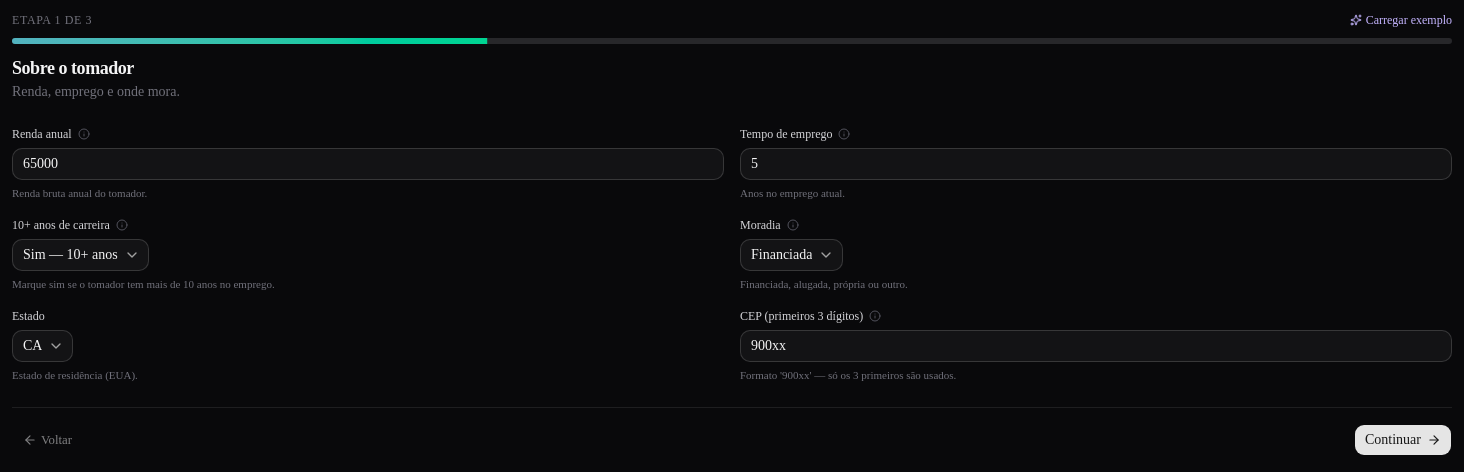
Test: LoanWizard › 'Carregar exemplo' jumps to step 3 (Perfil de crédito)
Click the button "Carregar exemplo".
click(1401, 20)  # box [1350,12,1452,28]
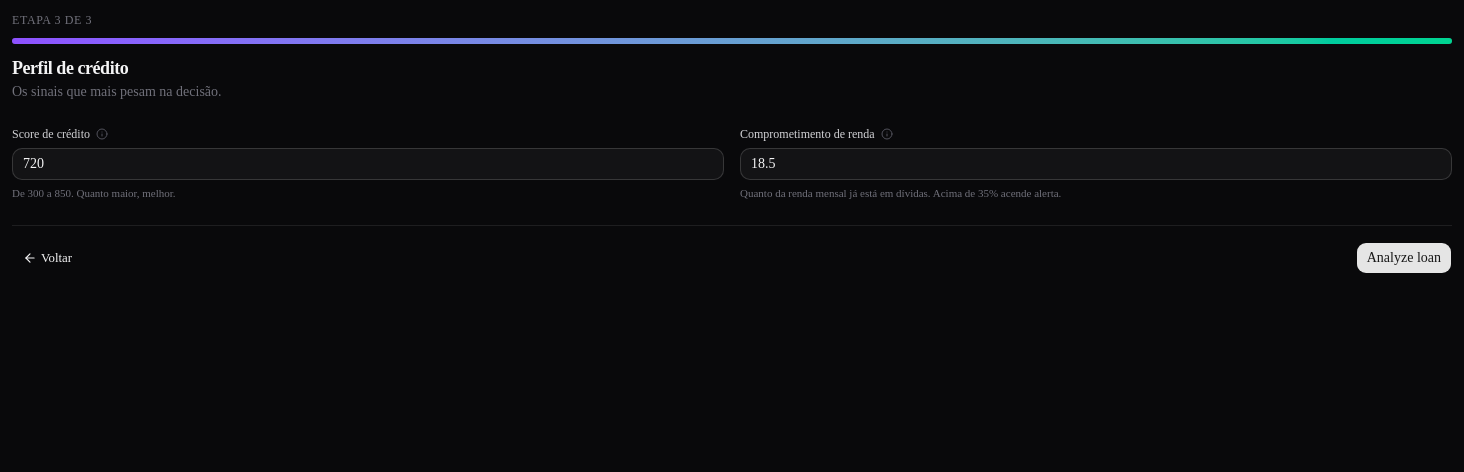
Result: the text "Etapa 3 de 3" is shown at [12,12,92,28]
Result: the heading "Perfil de crédito" is shown at [12,58,128,78]
Result: the button "Analyze loan" is shown at [1356,242,1452,274]
